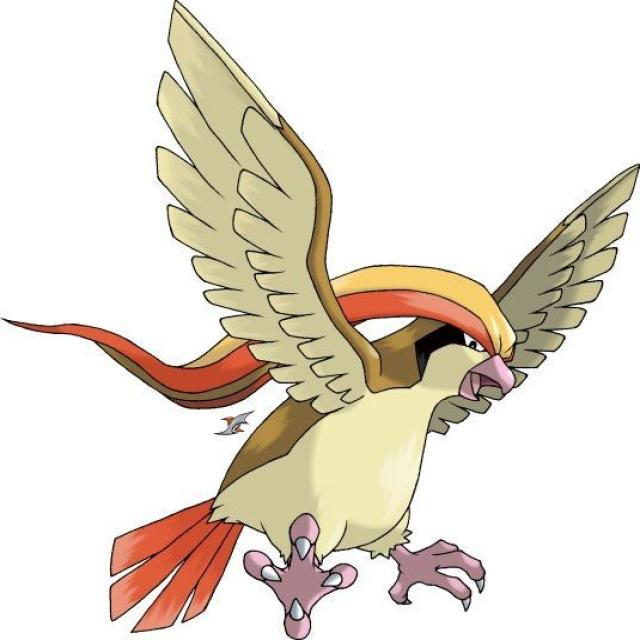Pidgeot: (152, 144, 634, 626)
